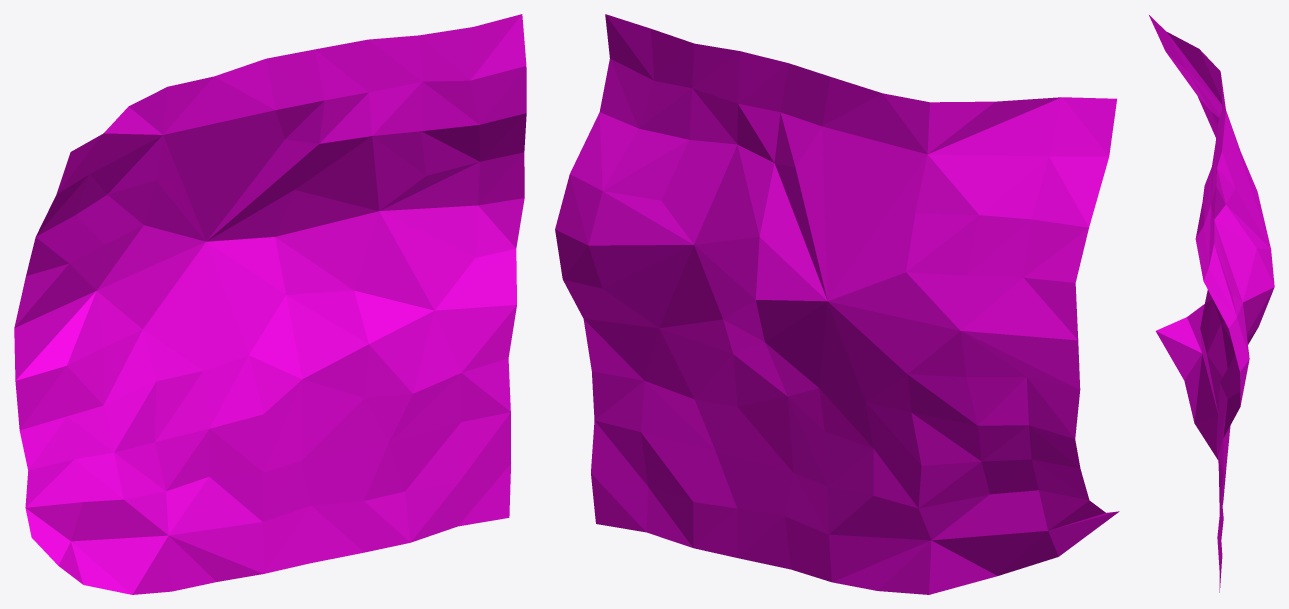
Rendered from Note2.fbx.
The picture shows the model from 3 angles, left to right: view 1: azimuth 30°, elevation 25°; view 2: azimuth 150°, elevation 25°; view 3: azimuth 270°, elevation 25°; orthographic projection. The views are drawn at different scales.
Parts seen in each view (by area): view 1: Note2; view 2: Note2; view 3: Note2.
Boxes of the visible parts, box(x1,y1,x2,y2) form: Note2: box(14, 14, 526, 594); Note2: box(555, 14, 1119, 594); Note2: box(1149, 15, 1274, 592).
Size of the model in its own units: 214 by 201 by 57.75.
